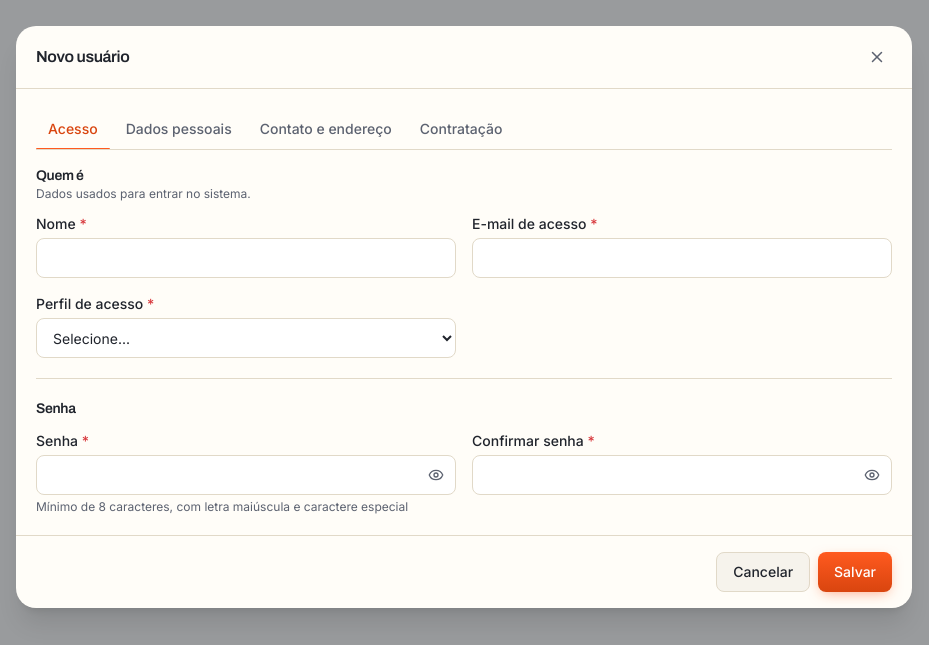
Test: UsuarioFormModal › requires a password when creating a new usuário
This screenshot has width=929, height=645.
In the field labelled "Nome *": (246, 258) [36,238,456,278], type "Fernanda"
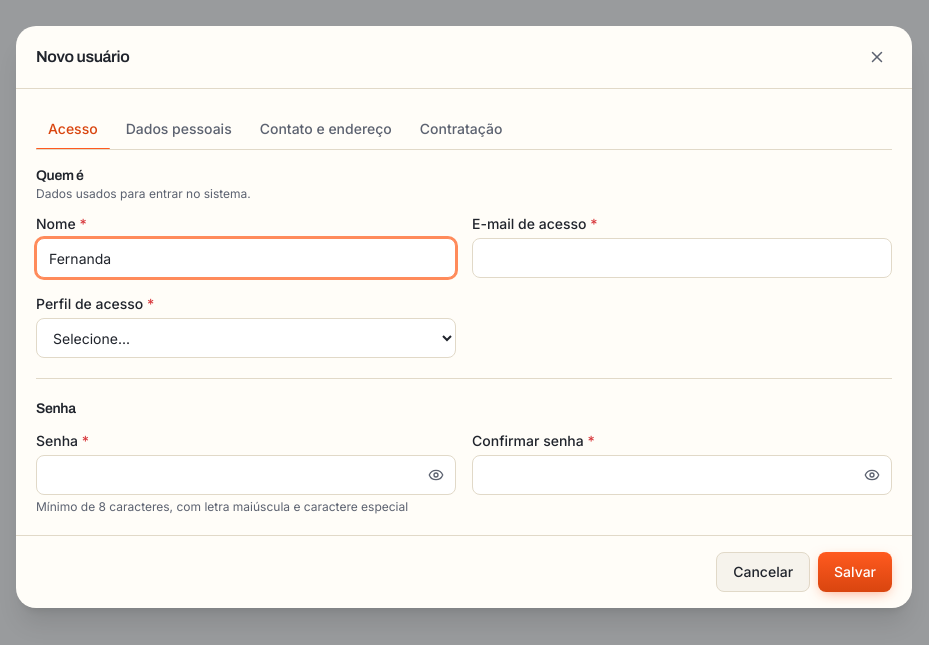
In the field labelled "E-mail de acesso *": (682, 258) [472,238,892,278], type "fernanda@ramtec.com.br"
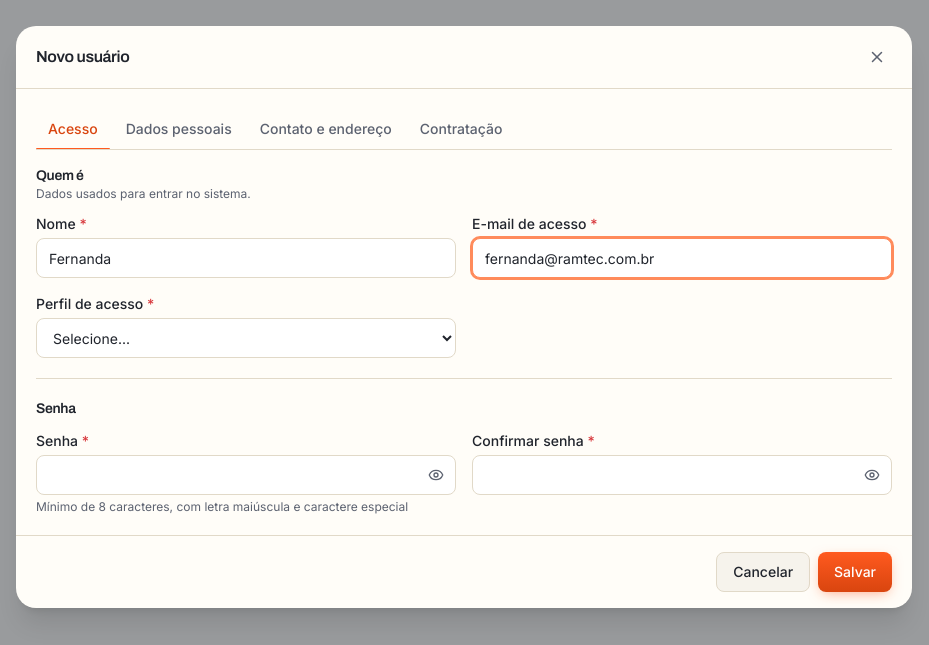
Click the button "Salvar": (855, 572) [818,552,892,592]
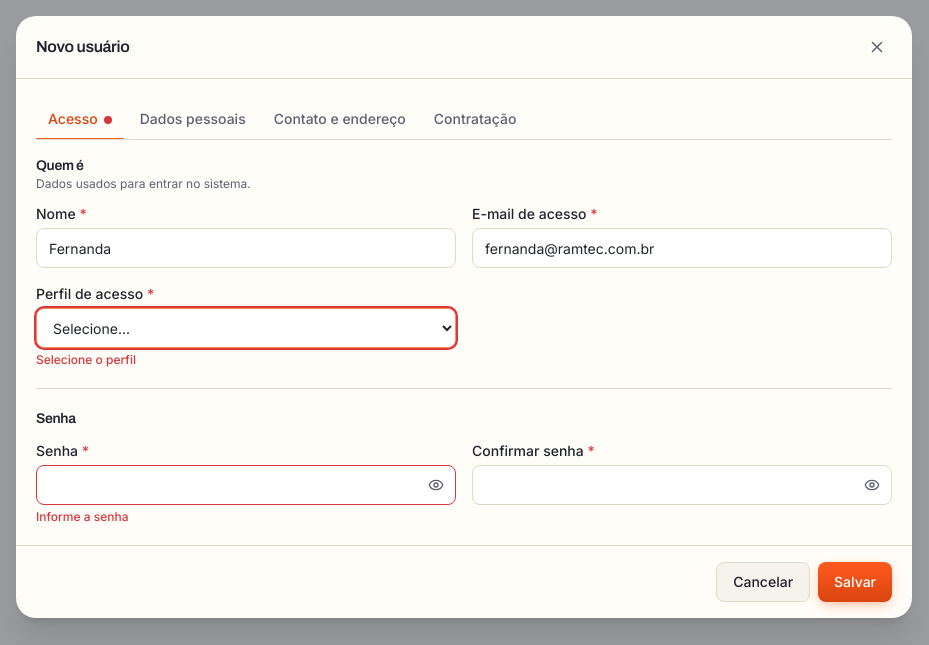
Expected: the text "Informe a senha" is shown, [36,509,128,524]
